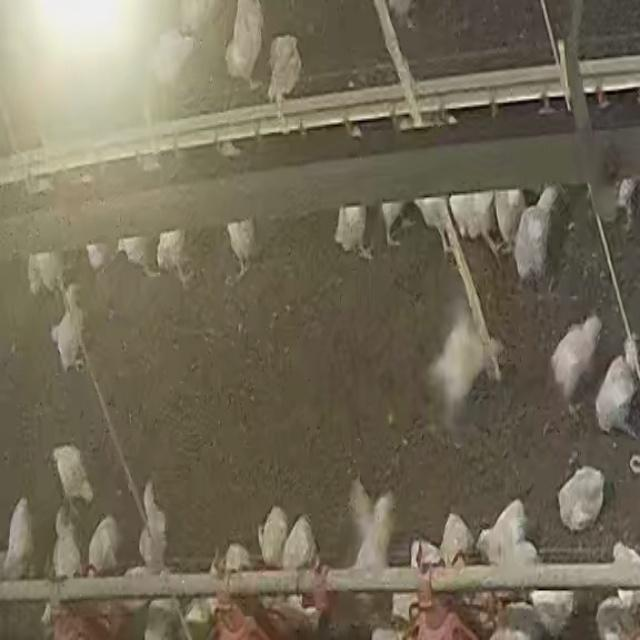chicken: (426, 300, 496, 441), (511, 187, 563, 287), (552, 314, 604, 412), (347, 481, 397, 573), (224, 0, 266, 90), (278, 517, 318, 608), (445, 193, 500, 256), (51, 287, 87, 374), (598, 358, 636, 439), (557, 468, 606, 530), (139, 480, 170, 572), (265, 34, 303, 108), (51, 442, 94, 507), (2, 496, 36, 578), (150, 29, 194, 90), (476, 498, 523, 554), (51, 503, 83, 578), (493, 190, 528, 258), (529, 588, 577, 636), (225, 218, 261, 279), (334, 205, 374, 259), (440, 511, 476, 569), (610, 540, 640, 608), (258, 505, 290, 568), (156, 230, 193, 284), (88, 515, 121, 574), (28, 251, 65, 295), (144, 596, 178, 639)
